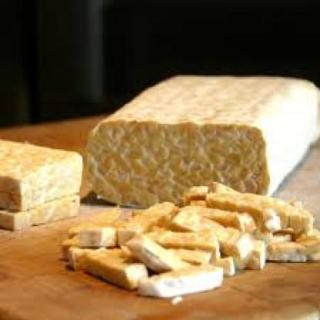Tempe: (84, 69, 320, 212)
